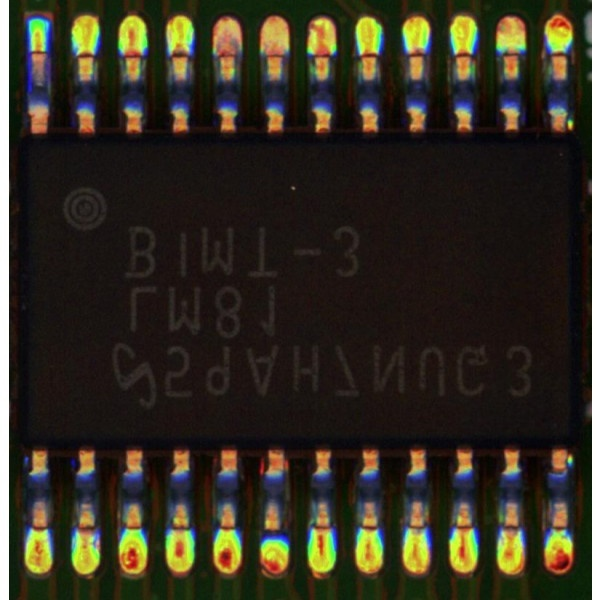Bad_podu: (313, 514, 329, 547), (456, 512, 471, 539), (505, 514, 520, 541), (80, 516, 95, 539), (362, 45, 376, 68), (314, 48, 329, 69), (129, 43, 141, 69), (221, 46, 234, 70), (172, 45, 188, 63), (32, 38, 44, 61), (457, 44, 470, 65), (269, 46, 282, 66), (411, 44, 424, 64)
